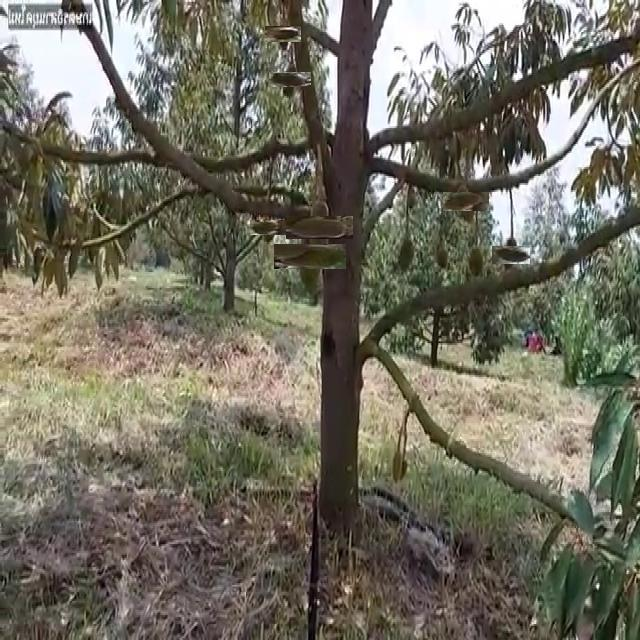durian: (286, 232, 335, 281), (296, 205, 342, 250), (449, 185, 483, 218), (397, 228, 416, 274), (496, 240, 525, 270), (275, 65, 305, 93), (270, 21, 297, 48), (255, 214, 281, 240), (468, 243, 486, 280)
